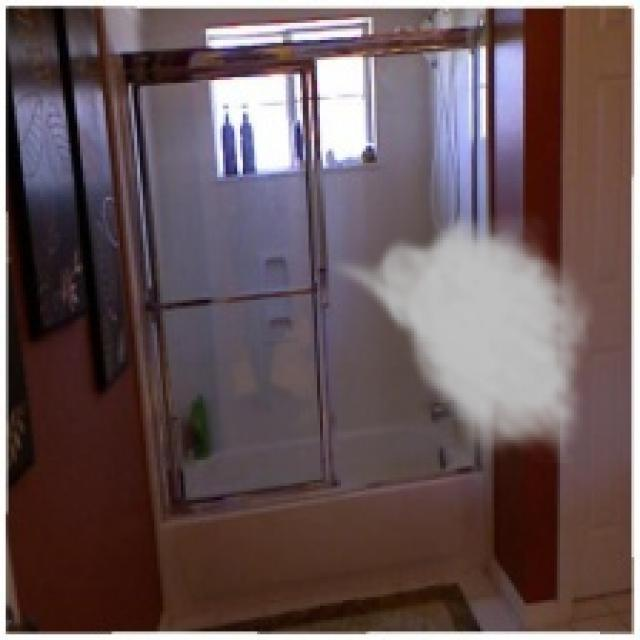Smoke: (326, 208, 594, 466)
